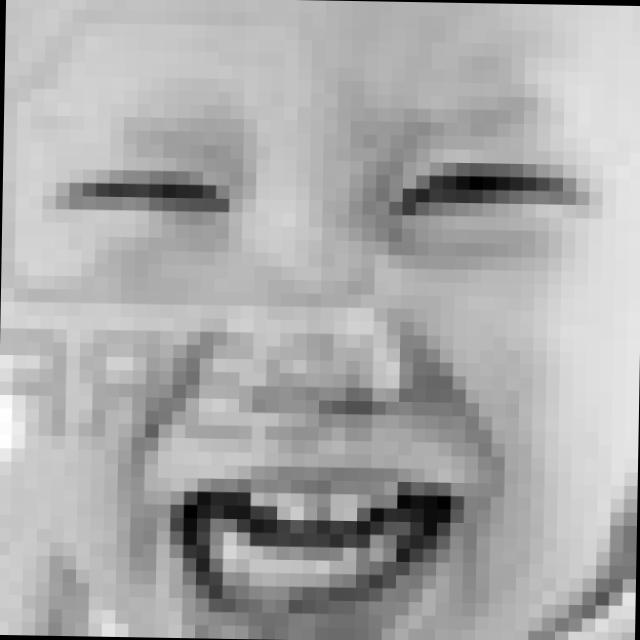angry: (35, 97, 606, 640)
